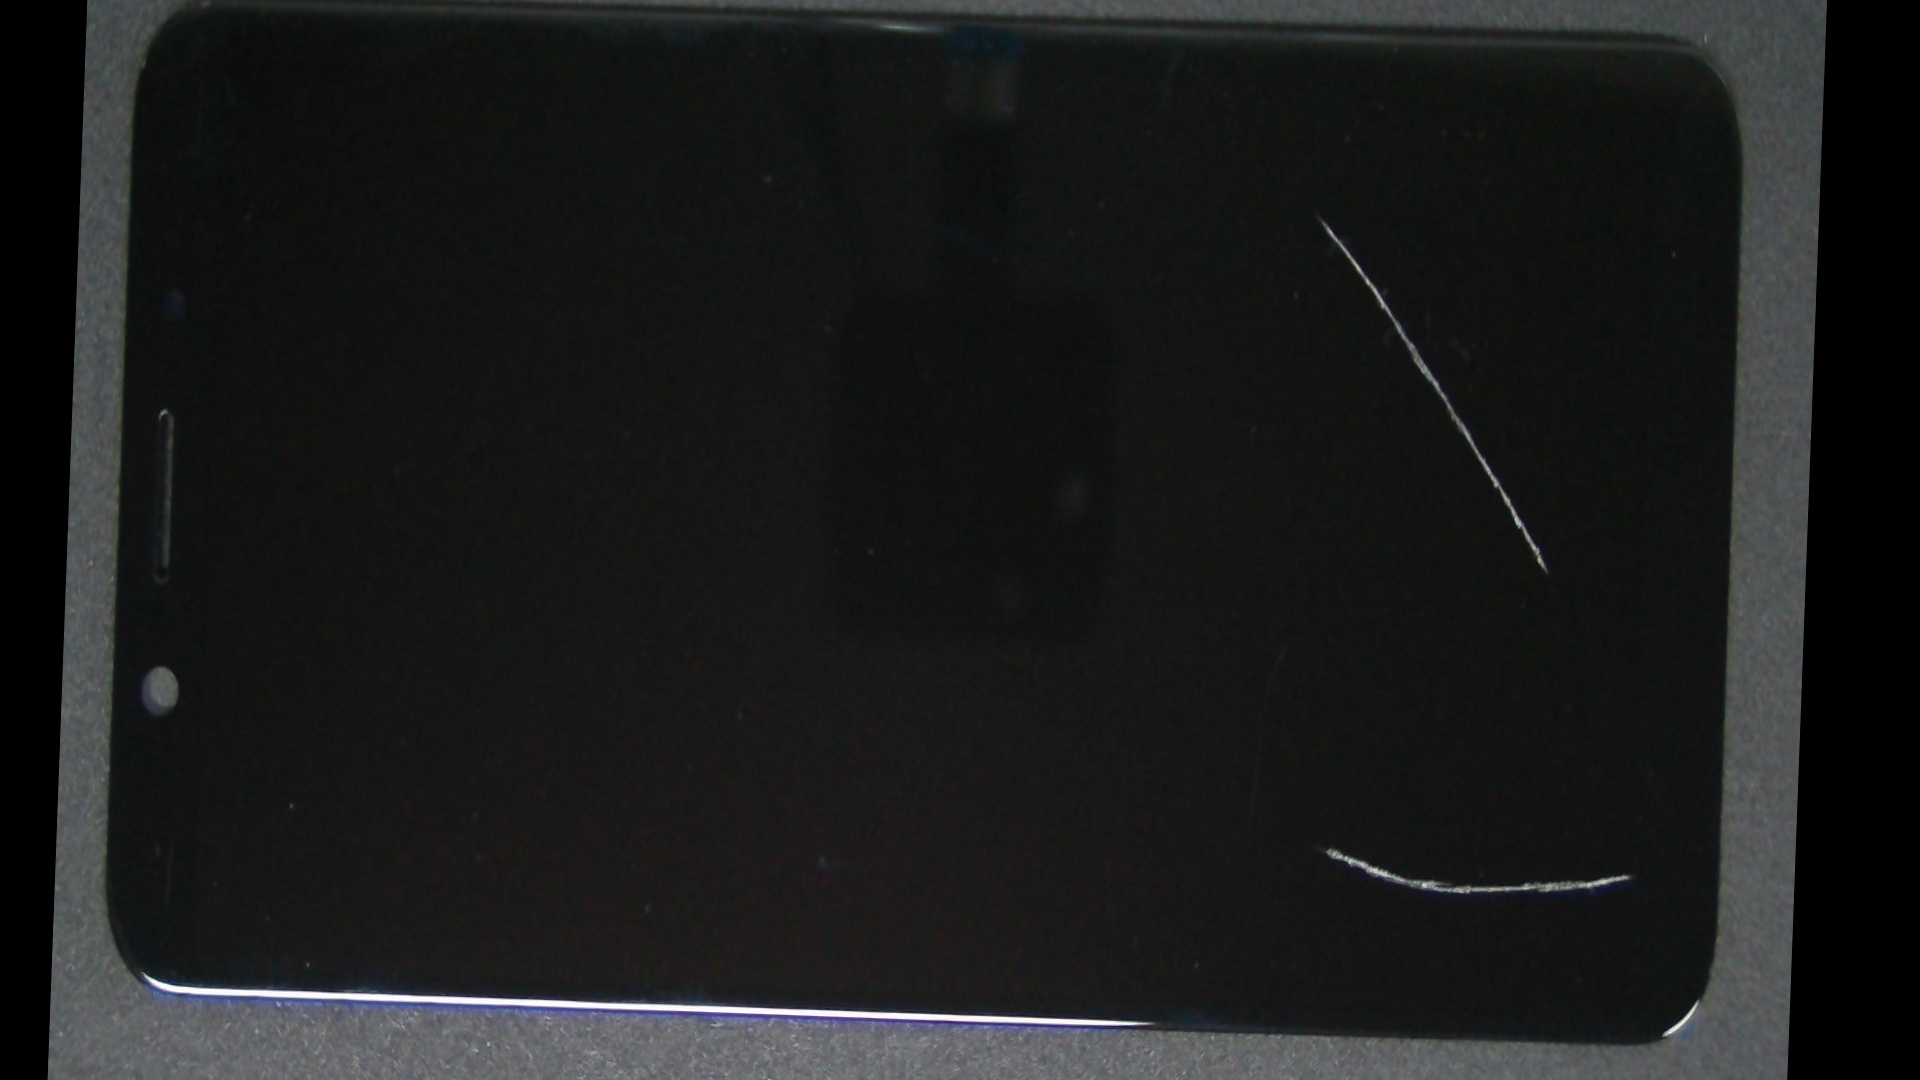oil: (680, 345, 1813, 1080), (695, 30, 1824, 401)
